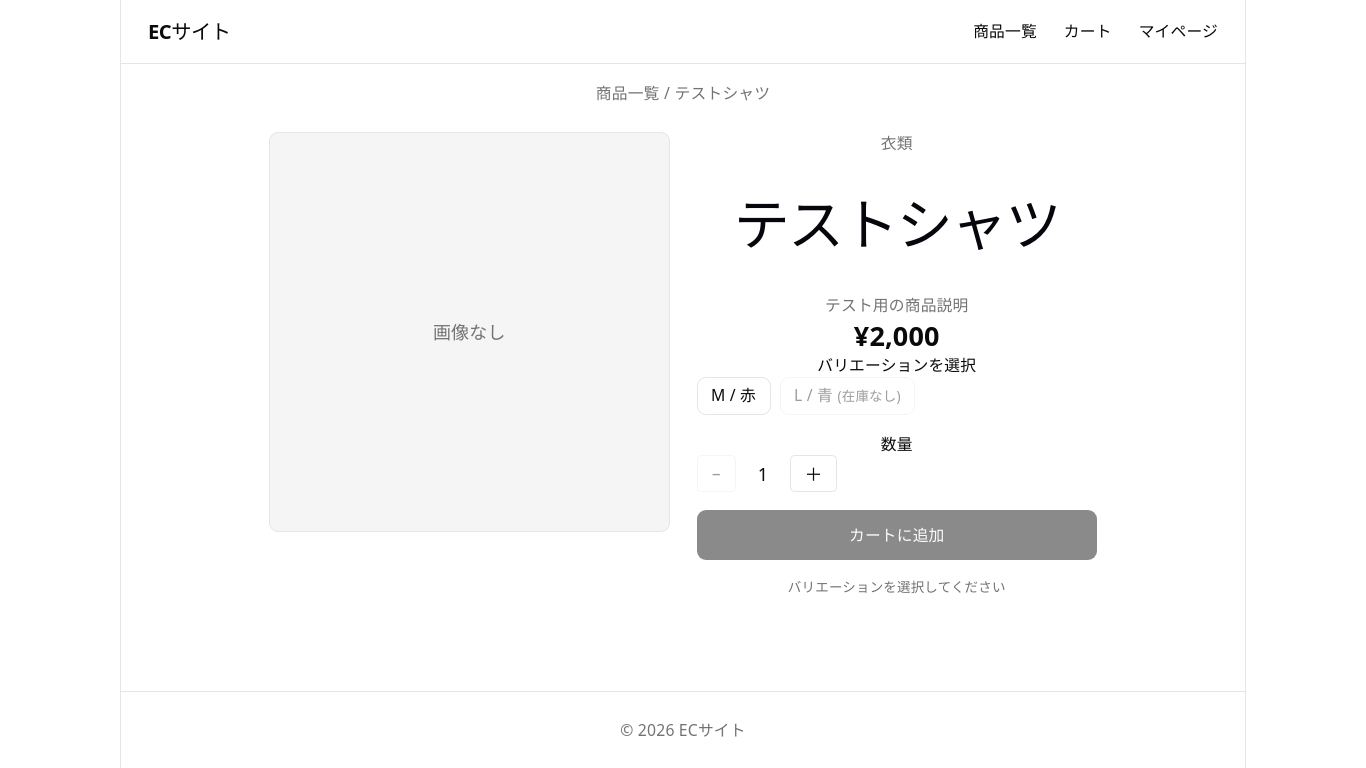
Scenario: ProductDetailPage › 数量を増減できること
The width and height of the screenshot is (1366, 768).
Click the button labelled "M / 赤" at (734,396), box [696, 377, 770, 415]
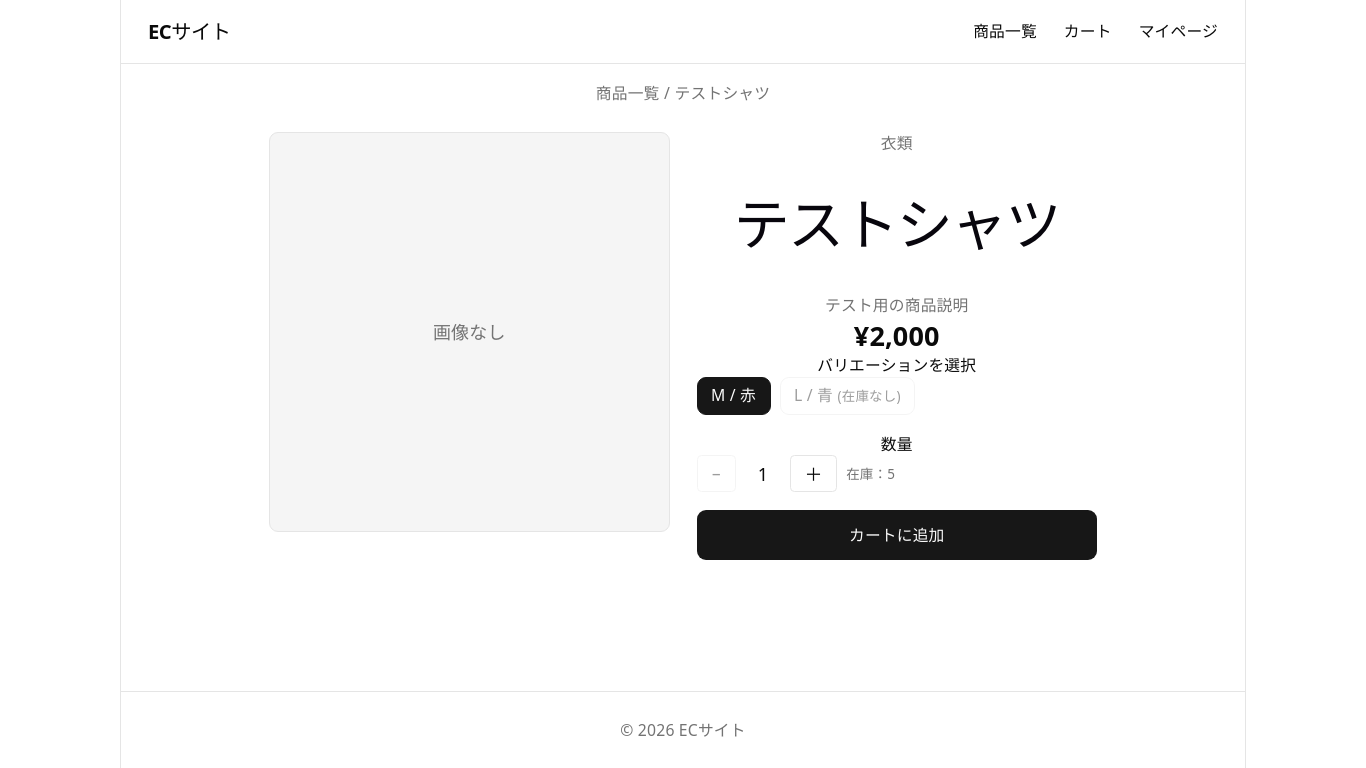
Click the button named "数量を増やす" at (814,474), box [790, 455, 837, 492]
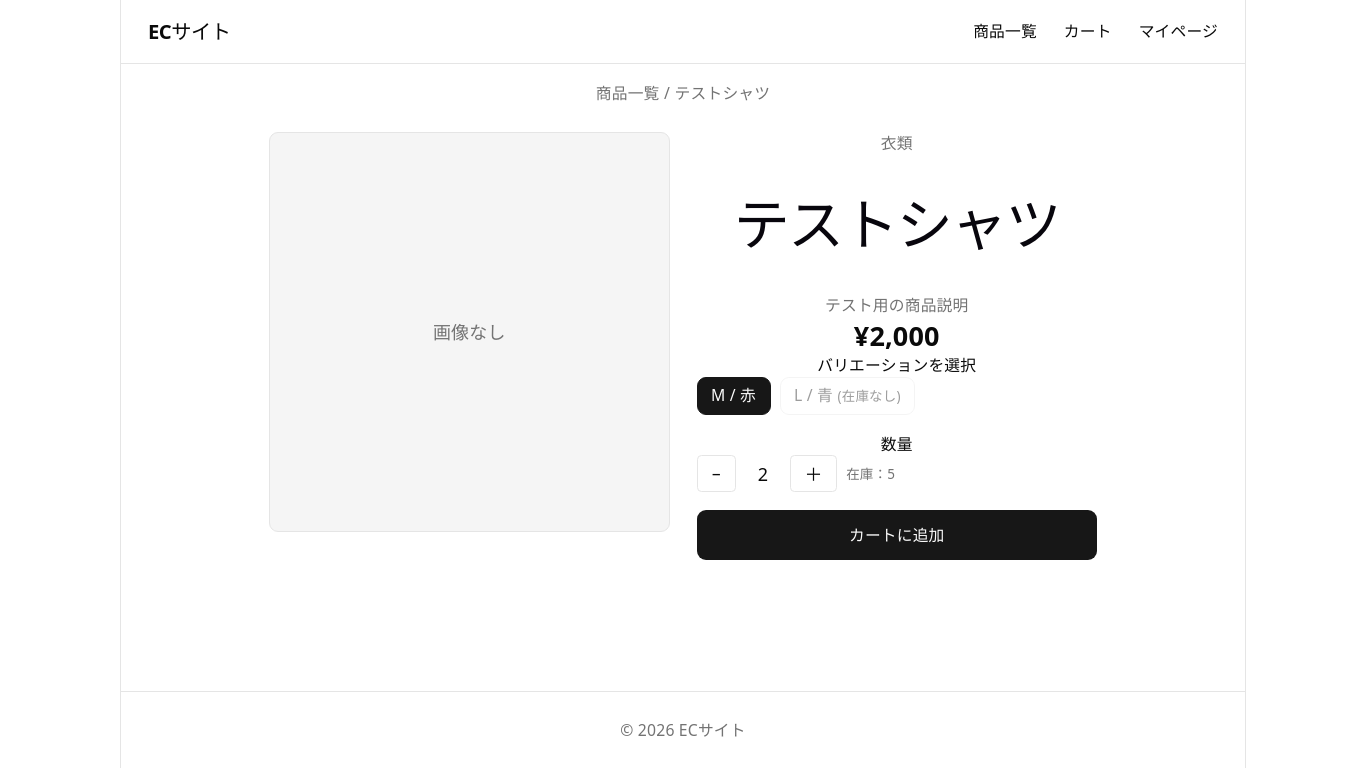
Expected: the text "2" is shown, [758, 462, 768, 486]
Click the button named "数量を減らす" at (716,474), box [696, 455, 736, 492]
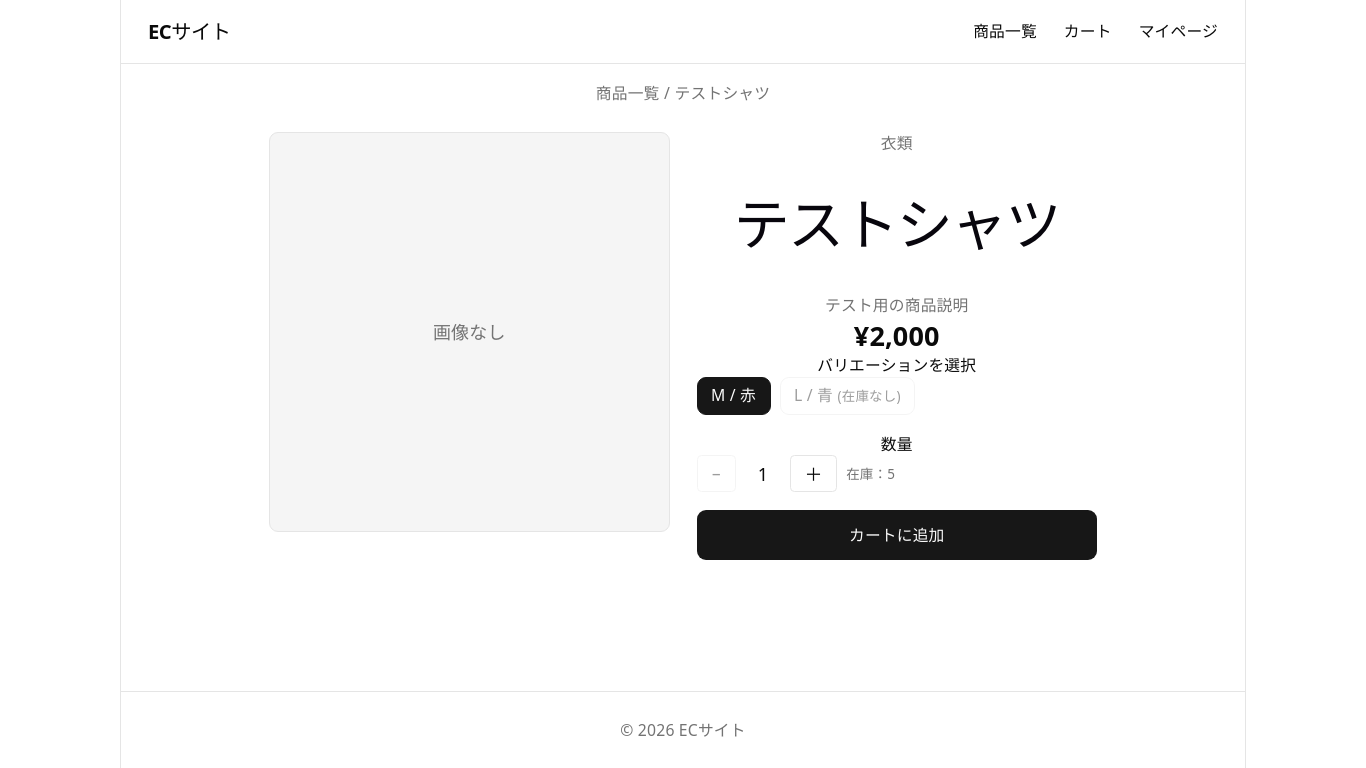
Now the text "1" is shown, box [758, 462, 768, 486]
